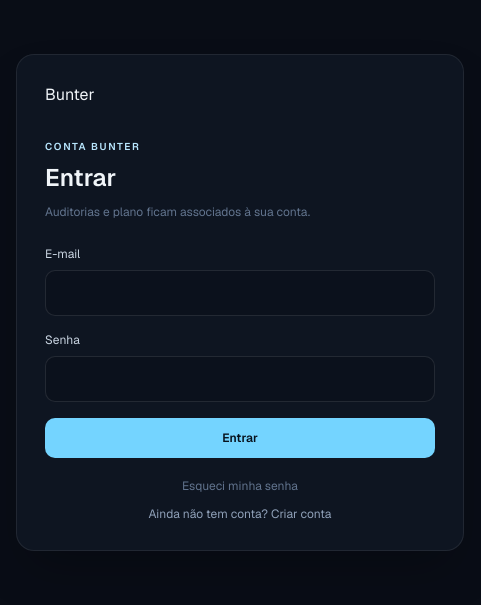
Test: AuthForm › creates an account and returns to sign in with a confirmation notice
The width and height of the screenshot is (481, 605).
Later steps or results of the test are not shown.
Click the button "Ainda não tem conta? Criar conta": x=240, y=514 x1=45 y1=506 x2=435 y2=522
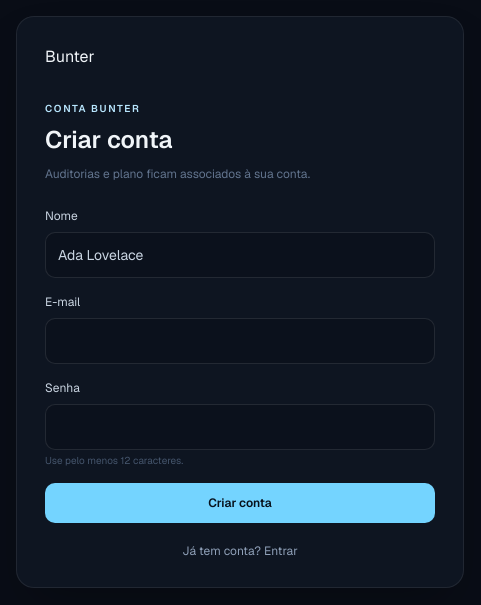
Now the heading "Criar conta" is shown, box x1=45 y1=124 x2=172 y2=155
Now the field labelled "Nome" is shown, box x1=45 y1=232 x2=435 y2=278
